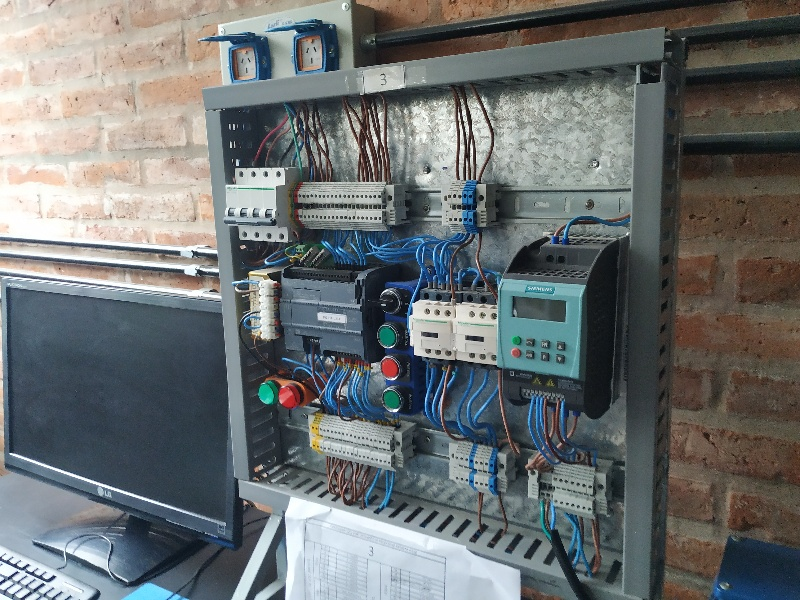Tablero 3: (214, 92, 640, 557)
